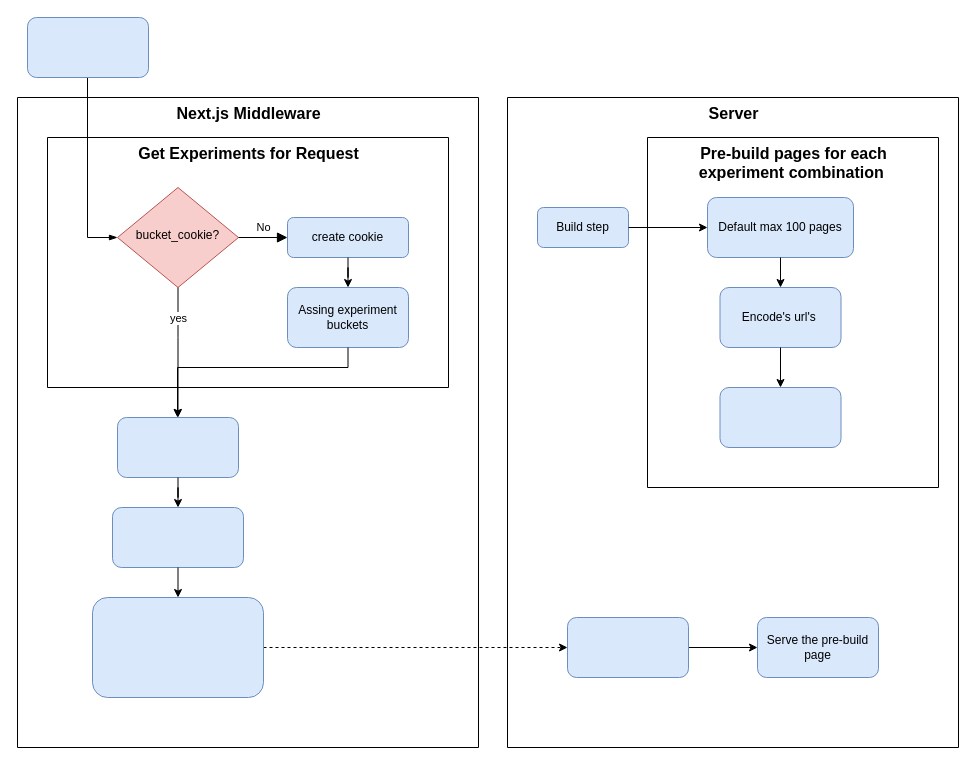
Image size: 976x765. Some labels were removed from this diagram. Here are the shapes that lost their labels. From the top down, the centre of each, then its label:
At pixel 87 47: "request".
At pixel 780 417: "Generate Static Params".
At pixel 177 447: "Get Path For Experiment".
At pixel 178 537: "Encode url based on experiments".
At pixel 178 647: "Rewrite Response Source: Encoded url Destination: request path".
At pixel 627 647: "Request with encoded url".
